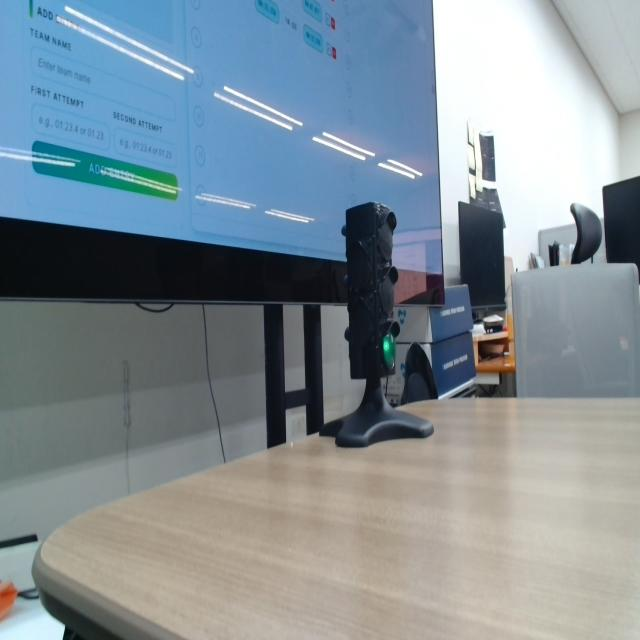green_light: (382, 334, 396, 368), (384, 339, 390, 351)
